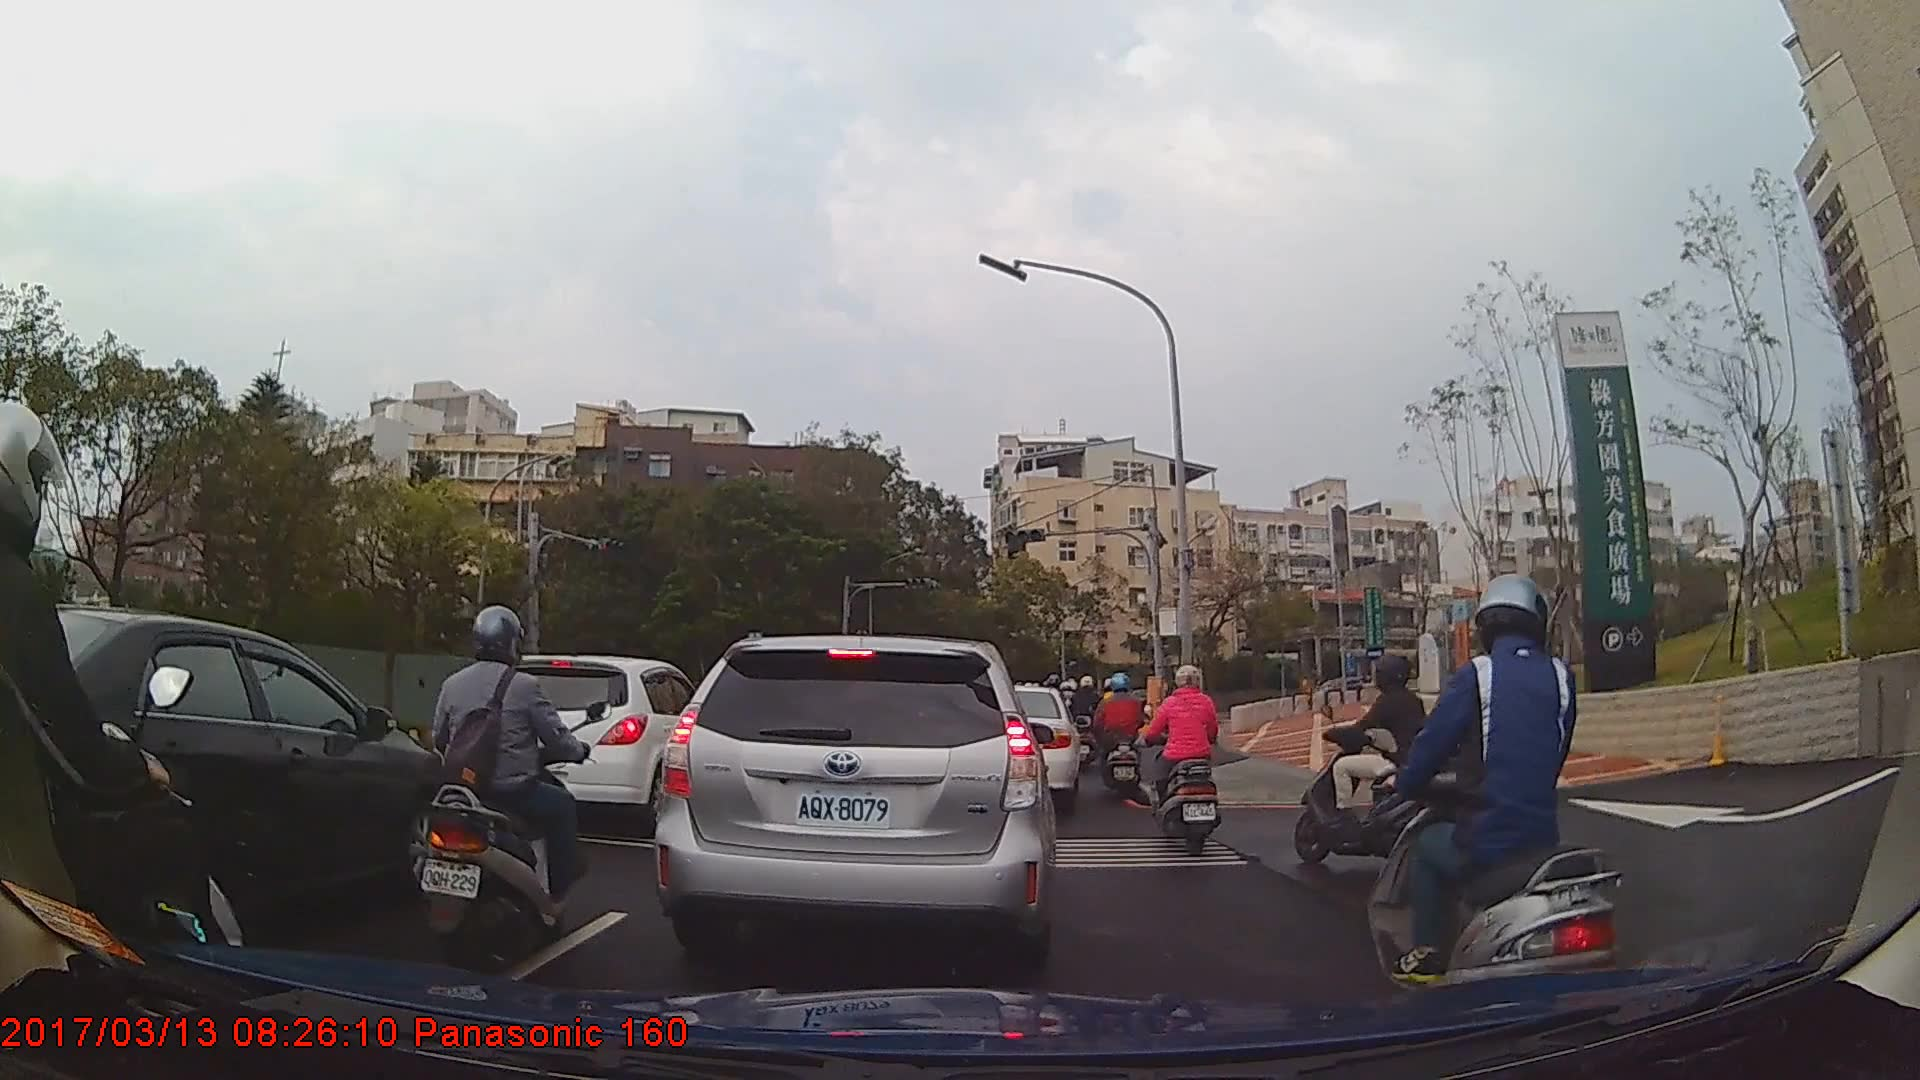rider: (1, 394, 260, 1080), (1367, 575, 1626, 1041), (415, 605, 596, 967), (1295, 656, 1483, 869), (1151, 662, 1221, 858), (1091, 668, 1149, 802), (1072, 673, 1107, 772)
vehicle: (2, 604, 460, 936), (650, 632, 1056, 984), (465, 653, 720, 835), (968, 685, 1081, 808)
